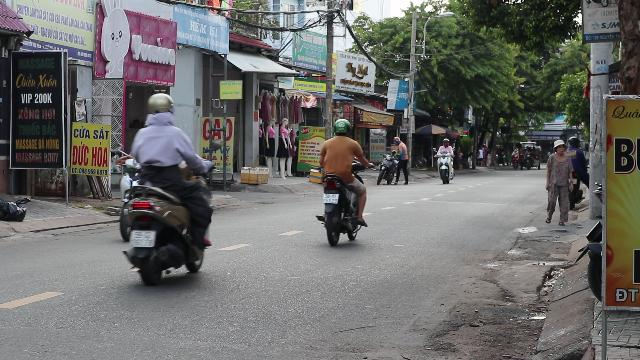helmet: (144, 93, 176, 123), (332, 118, 351, 136)
licenseplate: (130, 230, 156, 246), (322, 194, 338, 202)
motorcyclist: (115, 92, 215, 286), (316, 117, 370, 244)
